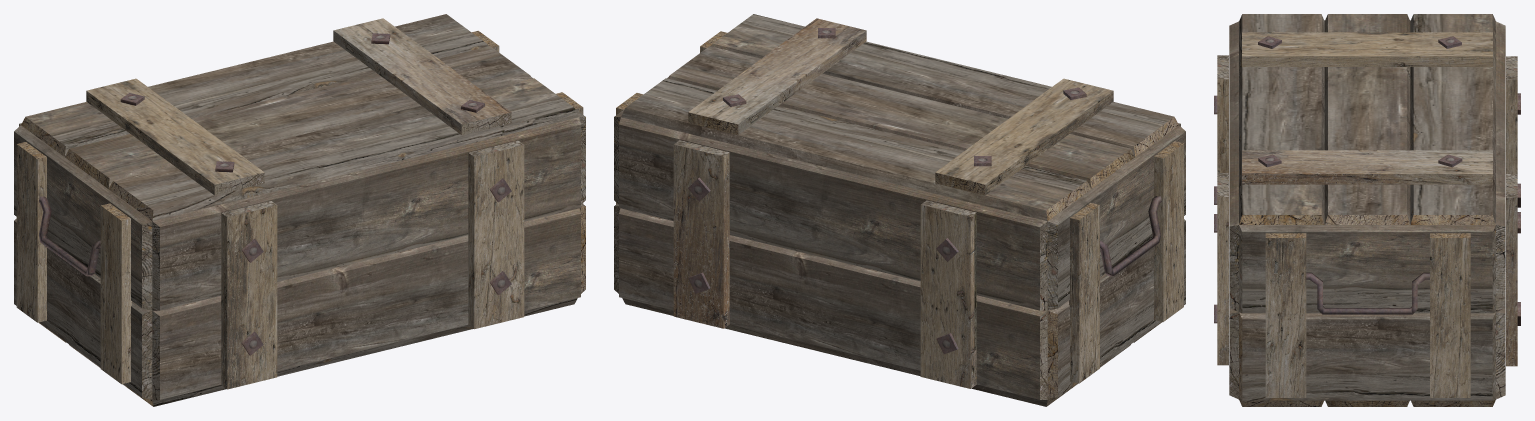
File: Chest1.fbx
The picture shows the model from 3 angles, left to right: view 1: azimuth 30°, elevation 25°; view 2: azimuth 150°, elevation 25°; view 3: azimuth 270°, elevation 25°; orthographic projection. The views are drawn at different scales.
Parts seen in each view (by area): view 1: polySurface338; view 2: polySurface338; view 3: polySurface338.
Part boxes in pixels (x1,y1,x2,y2): polySurface338: (14, 14, 585, 406); polySurface338: (614, 14, 1185, 406); polySurface338: (1214, 14, 1520, 406).
Bounding box in the file's own units: 1.66 × 0.7069 × 0.9552.
